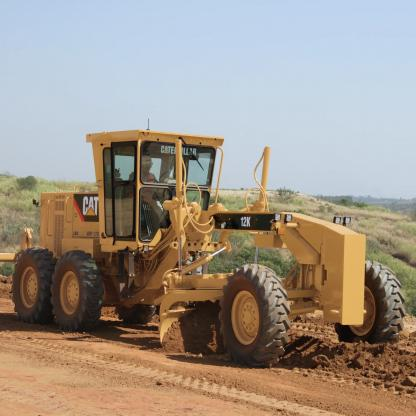bull_dozer/loader/grader: (8, 115, 413, 370)
